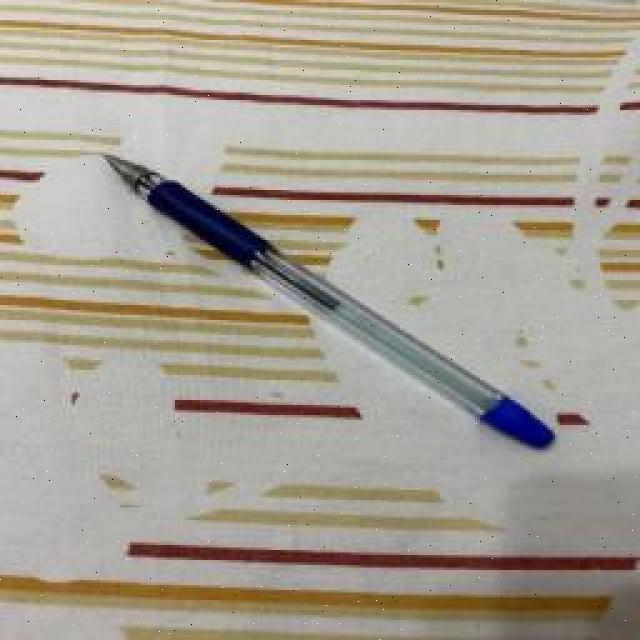pen: (100, 153, 553, 453)
